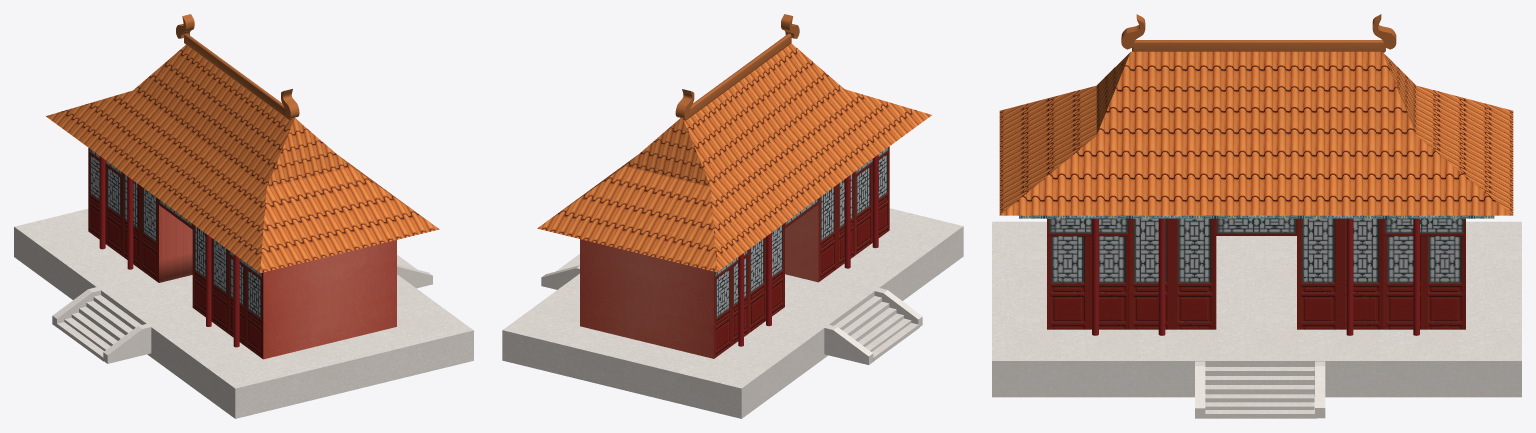
File: jinde.FBX
3 views of the same model, side by side, from view 1: azimuth 30°, elevation 25°; view 2: azimuth 150°, elevation 25°; view 3: azimuth 270°, elevation 25° (orthographic). The views are drawn at different scales.
Visible parts, largest first — view 1: 12697; view 2: 12697; view 3: 12697.
Boxes of the visible parts, x1,y1,x2,y2 form: 12697: [14, 14, 473, 418]; 12697: [502, 14, 963, 418]; 12697: [992, 14, 1521, 418].
Bounding box in the file's own units: 310 × 233 × 364.
Materials: 7 (5 with a texture image).
